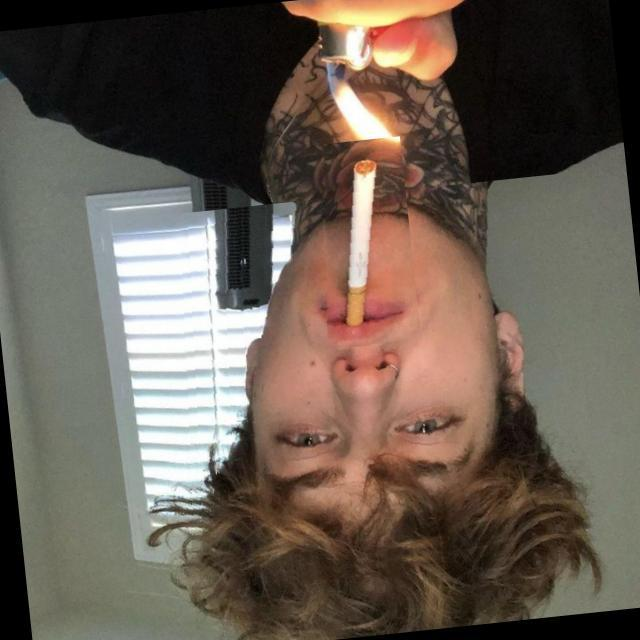cigarette: (306, 137, 421, 352)
